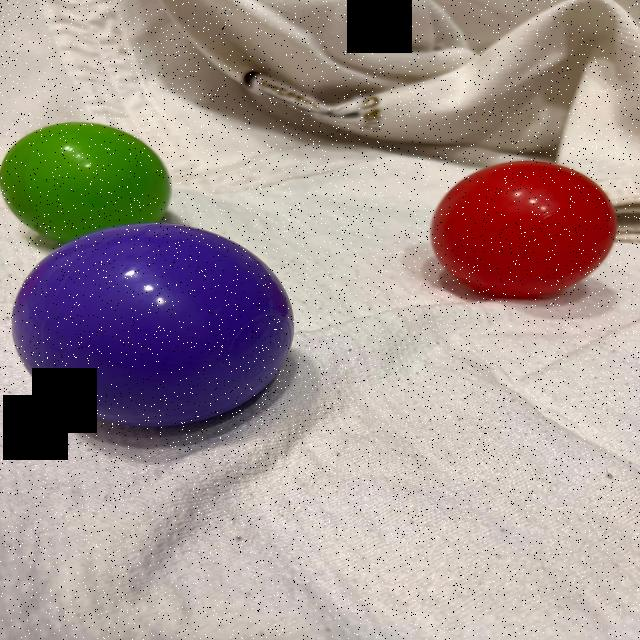ball: (9, 219, 298, 432), (426, 155, 620, 303), (4, 119, 177, 218)
